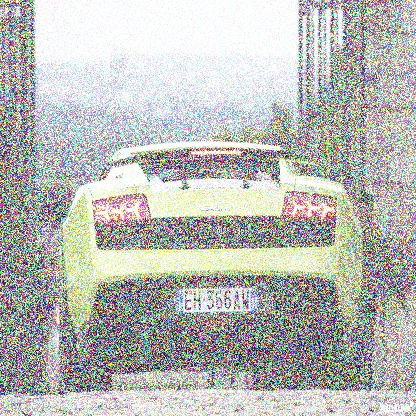Vehicle: (37, 140, 366, 392)
